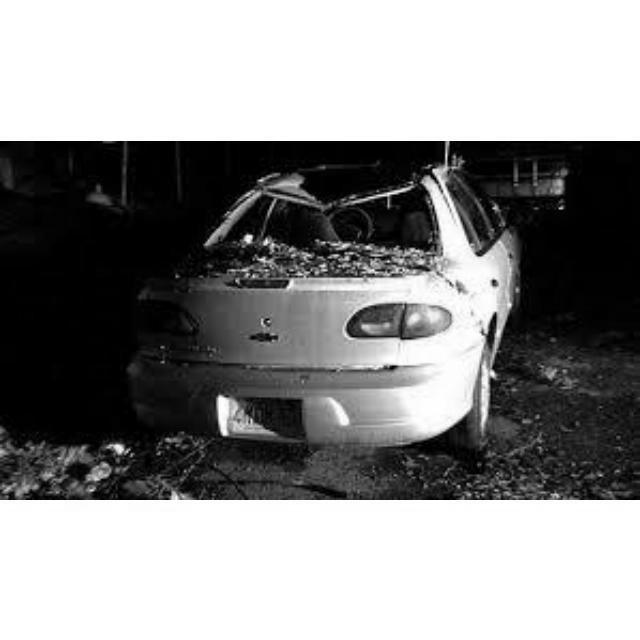Rear-windscreen-Damage: (201, 179, 449, 296)
roof-dent: (264, 159, 444, 204)
